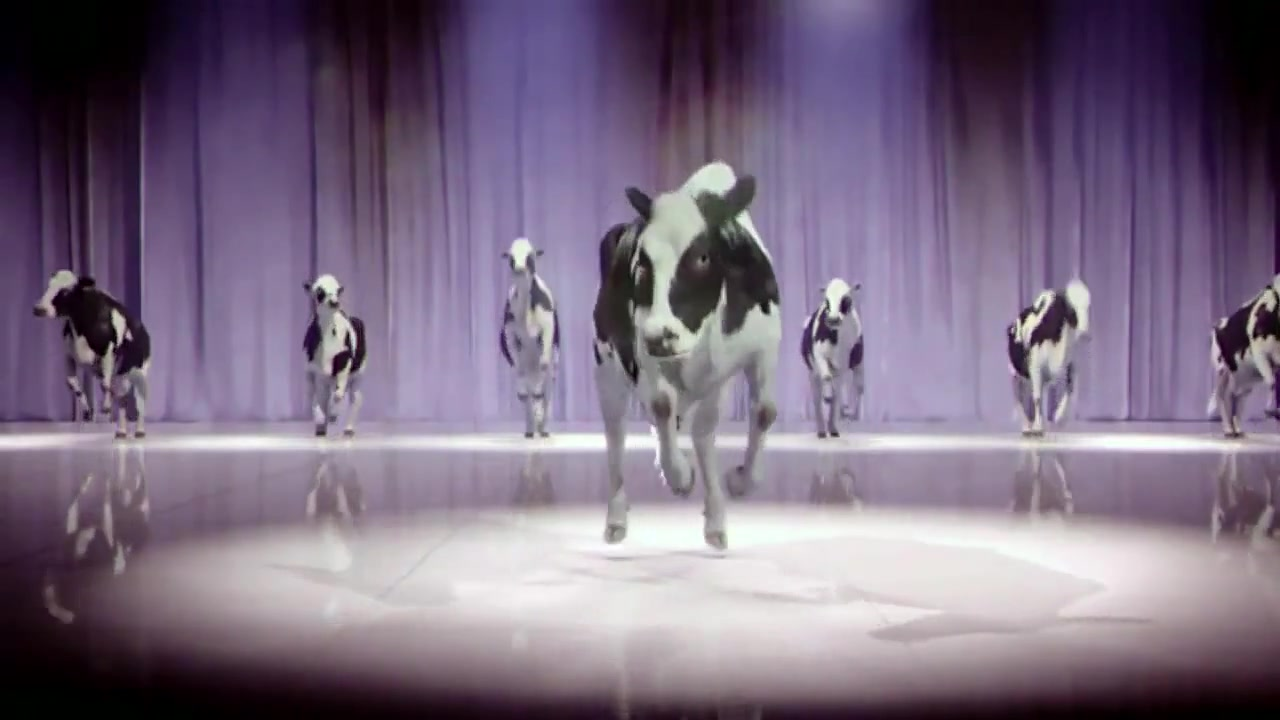cow: (587, 154, 786, 554)
